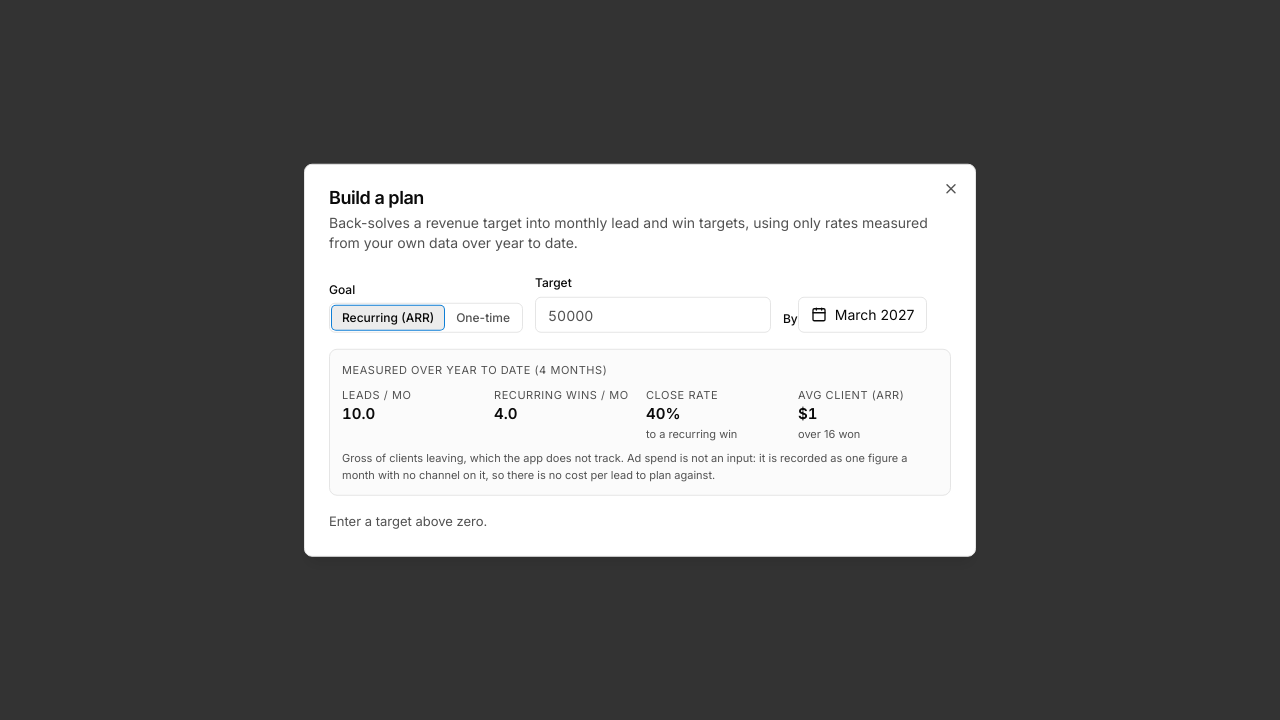
GoalBuilderDialog › refuses a plan whose monthly target a target column cannot hold
Type "1000000" into the field labelled "Target" at (653, 315), box [535,297,771,333]
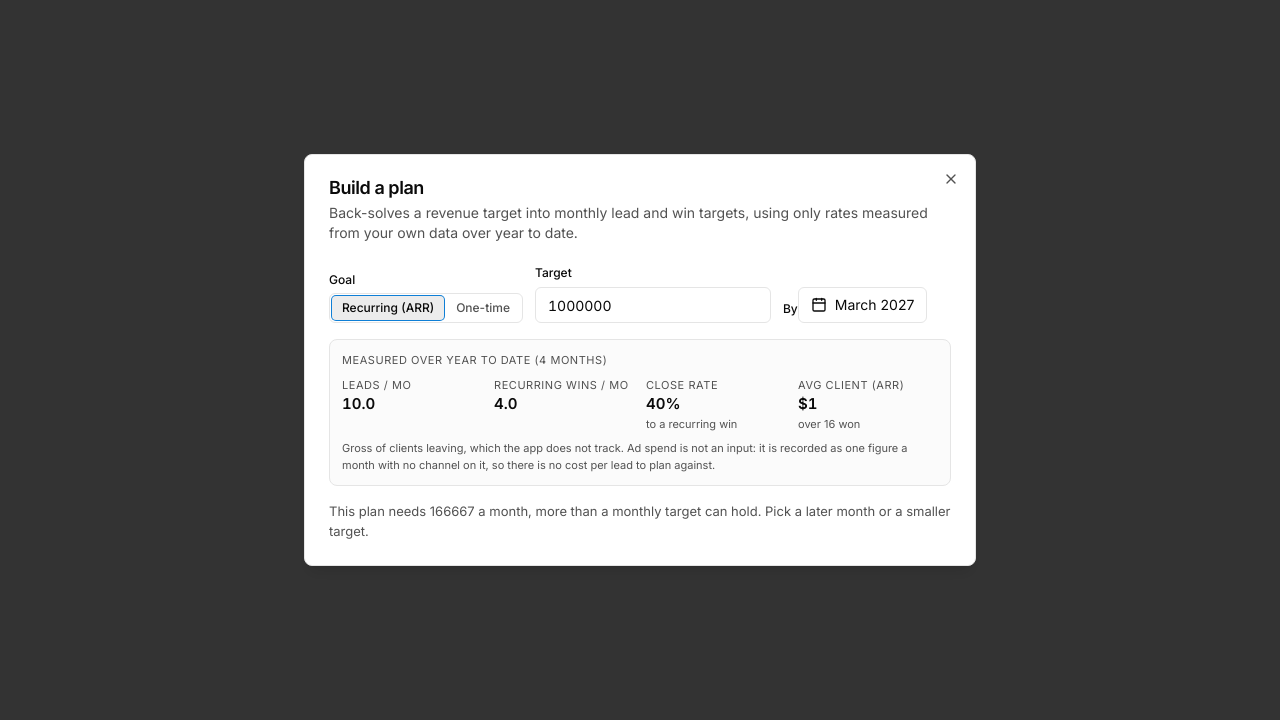
Check: the text "more than a monthly target can hold" is shown, box [329,503,950,538]
